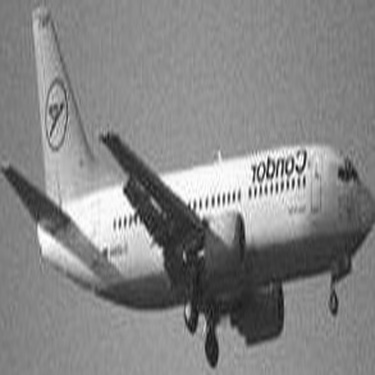airplane: (4, 8, 370, 371)
